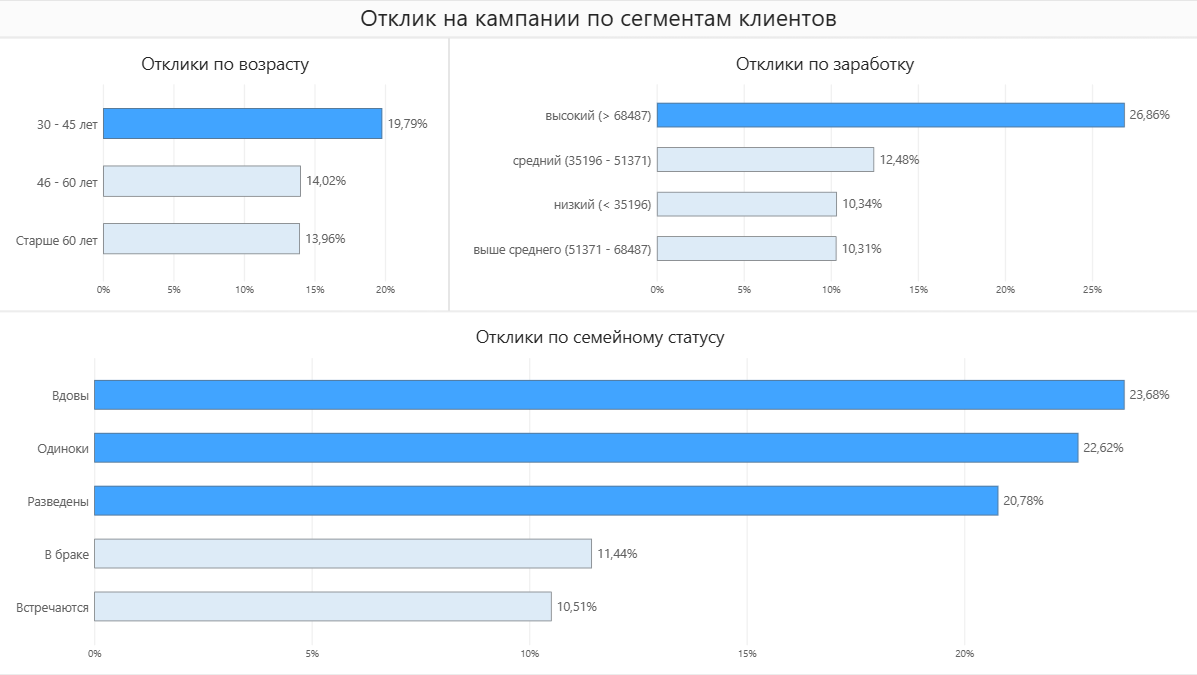

This screenshot's page, from the dashboard's own definition file:
{"tool":"powerbi","page":{"name":"Отклик по сегментам","canvas":[1920,1080],"ordinal":0},"visuals":[{"type":"clusteredBarChart","title":"Отклики по семейному статусу","fields":{"Category":["response_by_marital_status.Marital_Status"],"Y":["Sum(response_by_marital_status.response_rate)"]},"box":[0,498,1920,582],"z":0},{"type":"clusteredBarChart","title":"Отклики по возрасту","fields":{"Category":["response_by_age.age_group"],"Y":["Sum(response_by_age.response_rate)"]},"box":[0,60,720,438],"z":1000},{"type":"clusteredBarChart","title":"Отклики по заработку","fields":{"Category":["response_by_income.income_group"],"Y":["Sum(response_by_income.response_rate)"]},"box":[720,60,1200,438],"z":2000},{"type":"textbox","box":[0,0,1920,60],"z":3000}]}

Visuals, with their boxes in screenshot pixels (x1, y1, x2, y2), scaled from the page's 1920x1080 canvas onto the 1197x675 screenshot:
"Отклики по семейному статусу" clusteredBarChart: bbox(0, 311, 1196, 674)
"Отклики по возрасту" clusteredBarChart: bbox(0, 38, 449, 311)
"Отклики по заработку" clusteredBarChart: bbox(449, 38, 1196, 311)
textbox: bbox(0, 0, 1196, 38)
